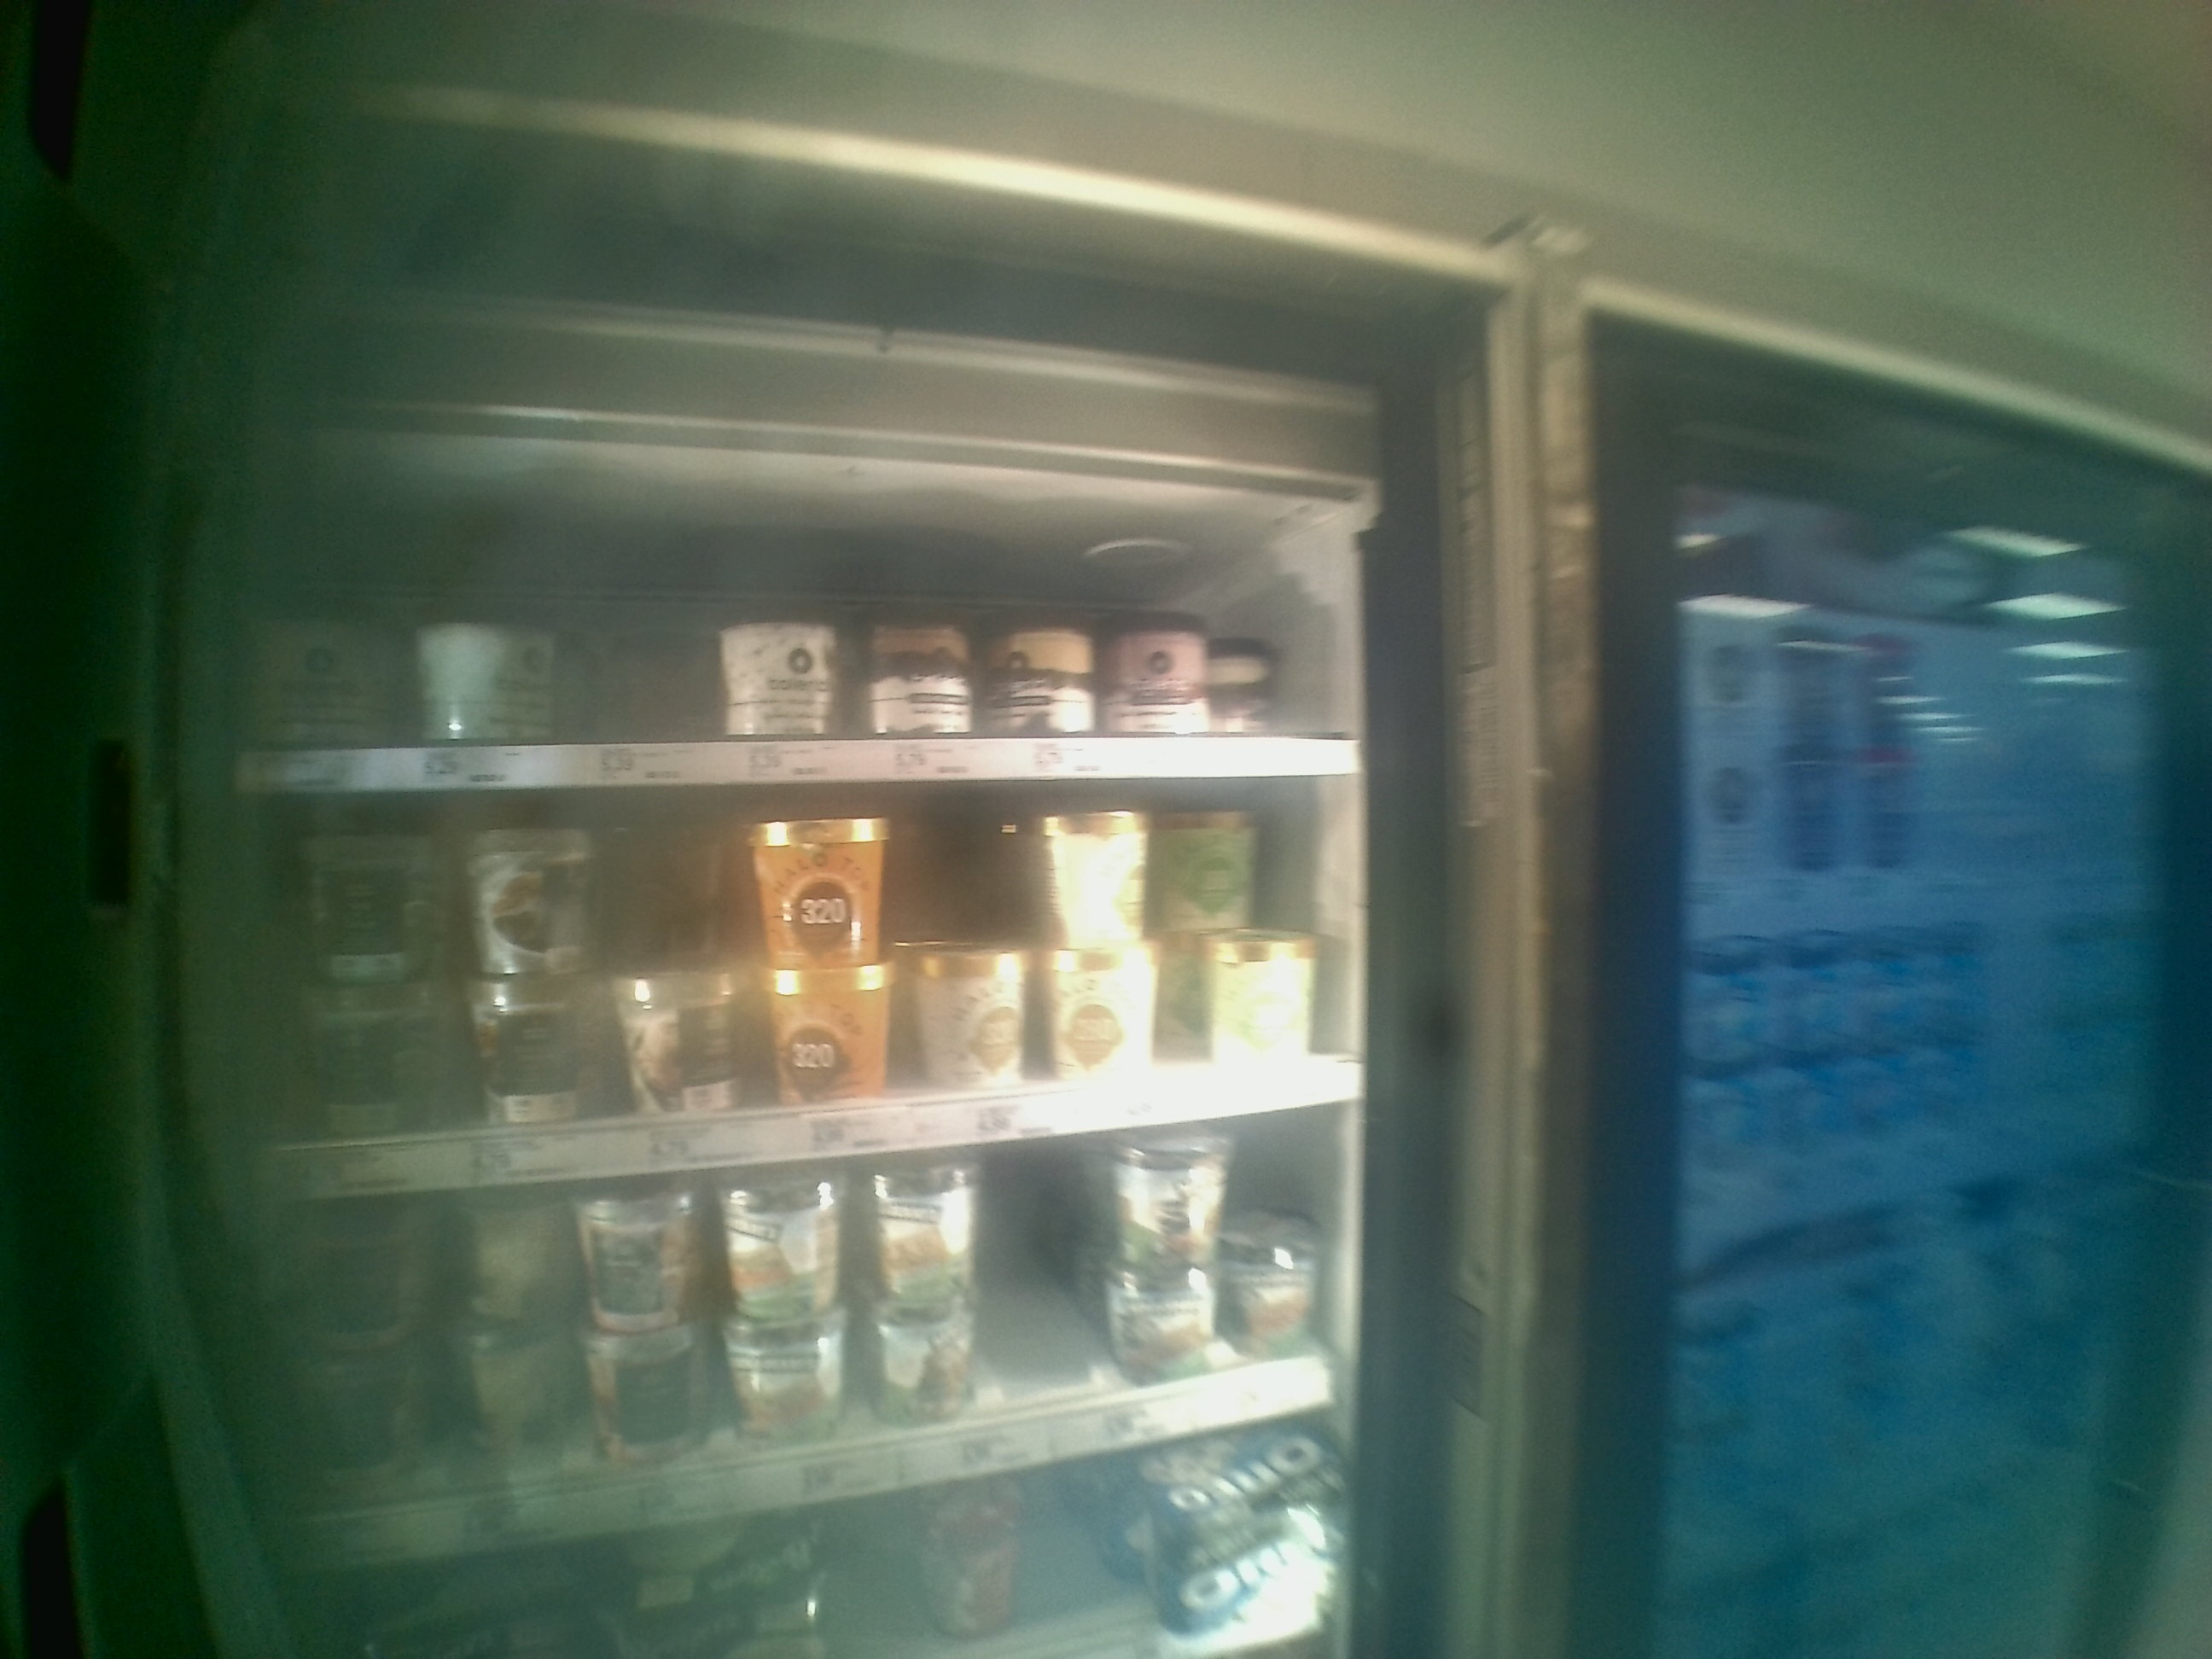ice-cream-shelf: (258, 782, 1372, 1148)
